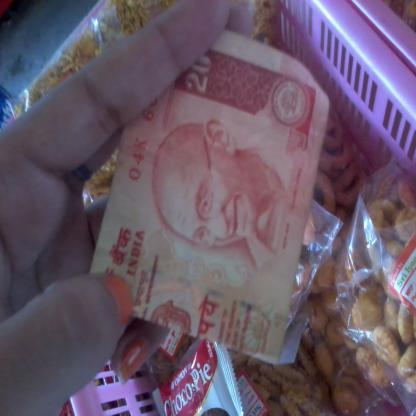Old20Front: (99, 50, 311, 341)
